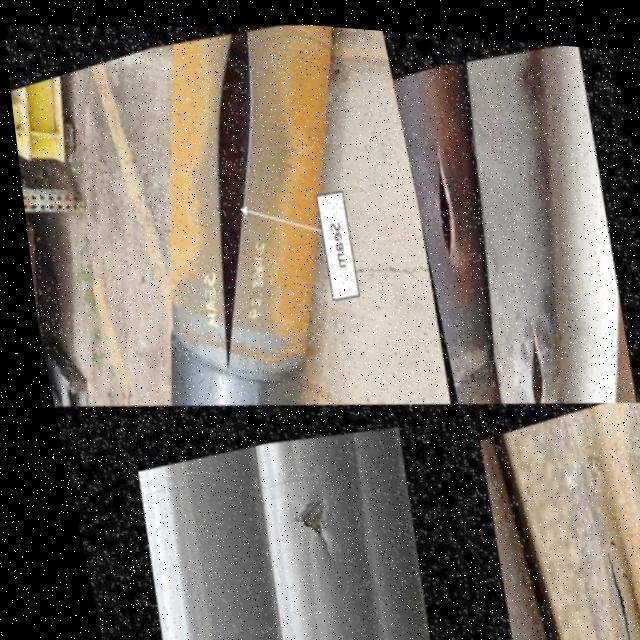crack: (593, 525, 626, 640)
hole: (270, 477, 328, 541)
rupture: (209, 24, 261, 356), (433, 134, 456, 248), (522, 306, 542, 397)
